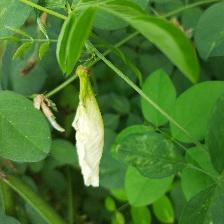shankupushpam: (71, 94, 112, 190)
